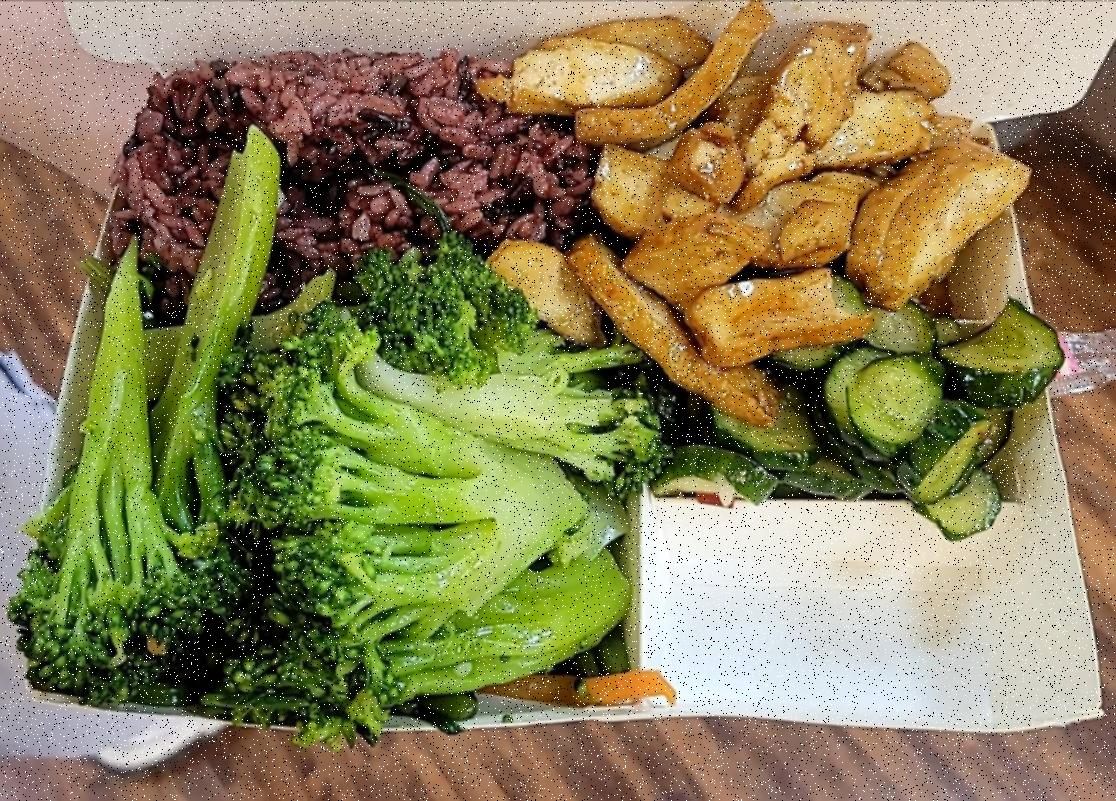box: (20, 48, 1111, 746)
purple rice: (114, 45, 614, 319)
side dish: (50, 125, 642, 714), (496, 2, 1024, 411), (652, 302, 1070, 531)
